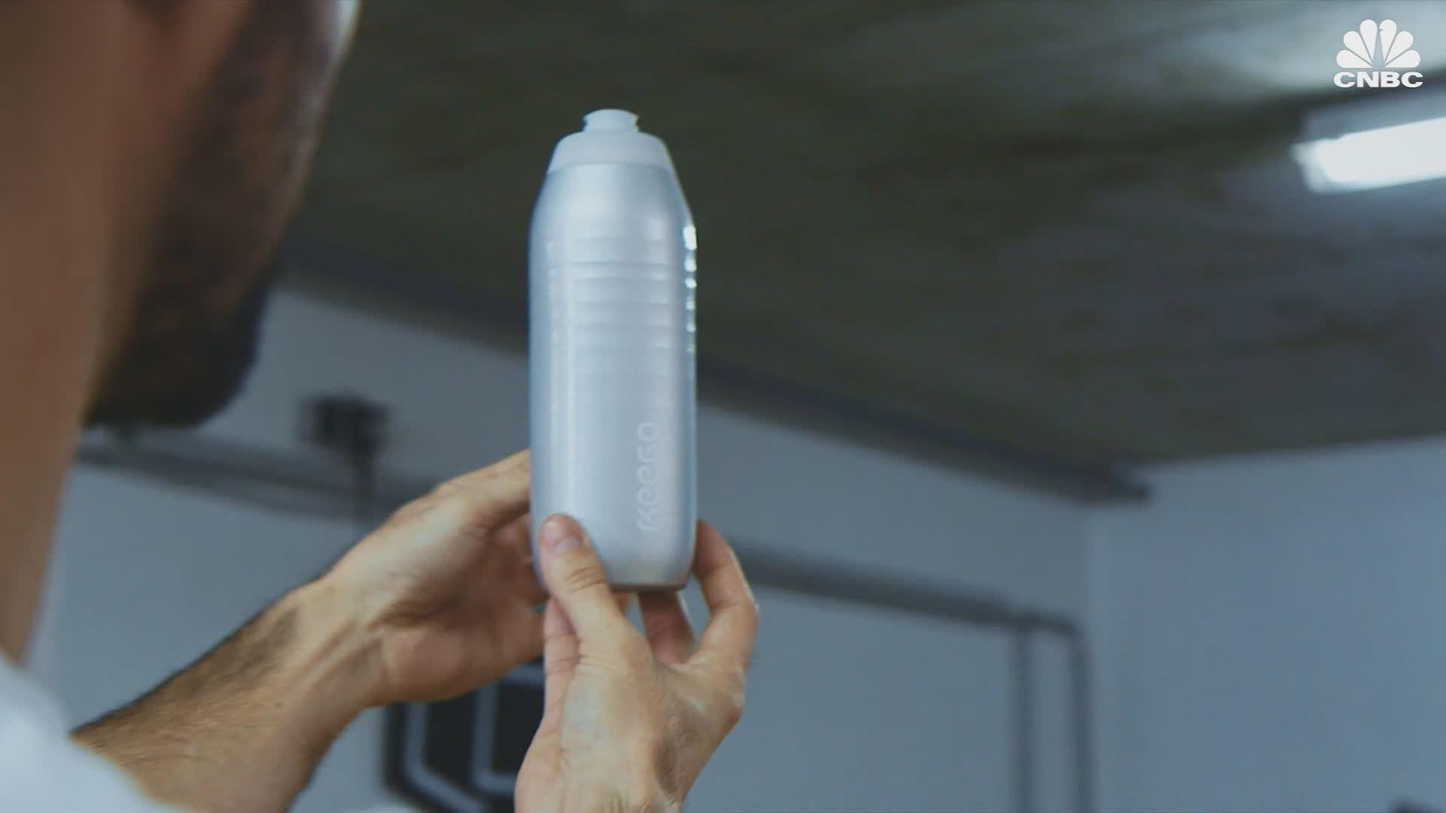gym bottle: (523, 103, 703, 592)
